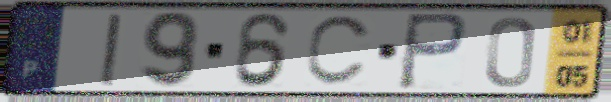0: (482, 14, 539, 90)
6: (232, 11, 292, 91)
9: (138, 10, 203, 91)
C: (302, 13, 377, 89)
I: (97, 11, 124, 89)
P: (394, 11, 471, 93)
